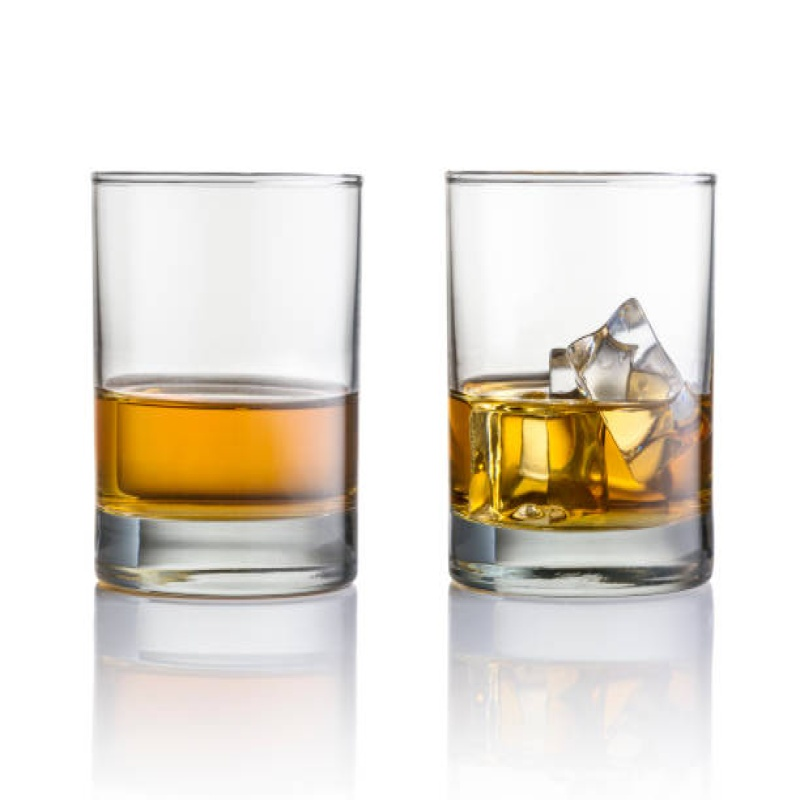whiskey: (82, 176, 364, 591), (444, 170, 720, 593)
